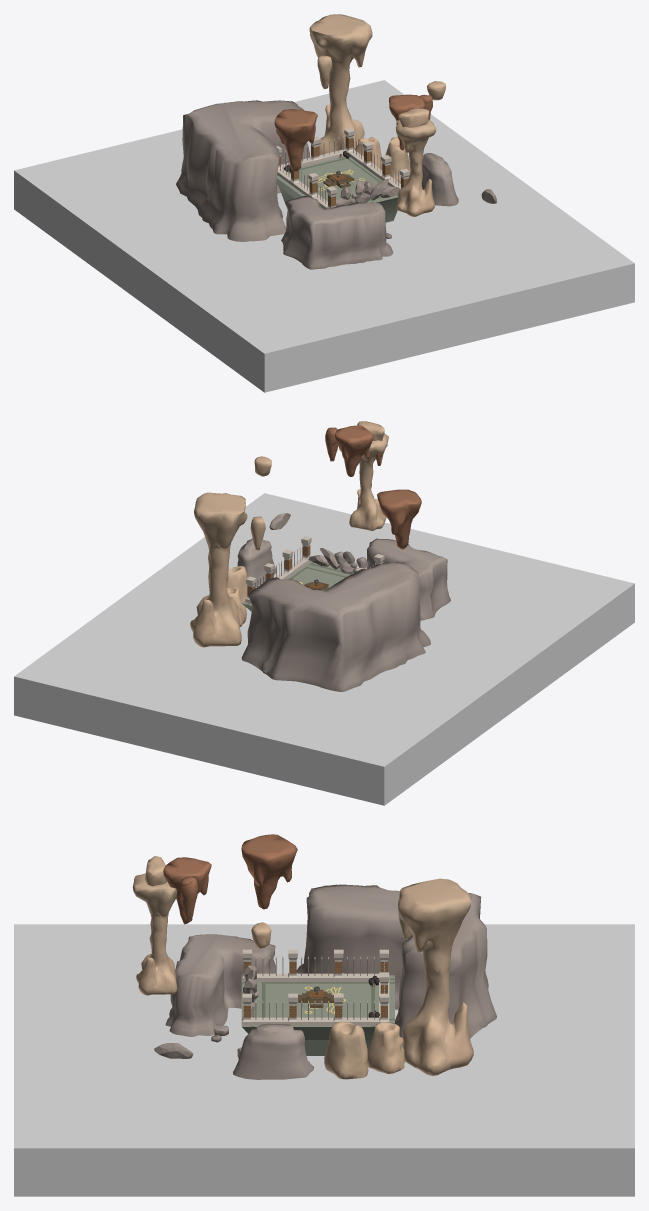
The model's file is room3.fbx.
3 views of the same model, one above another, from view 1: azimuth 30°, elevation 25°; view 2: azimuth 150°, elevation 25°; view 3: azimuth 270°, elevation 25° (orthographic). The views are drawn at different scales.
Parts seen in each view (by area): view 1: Box816, Plane.005, Plane.004, pilar1_1, Box779, pilar1, pilar2_1, Plane.003, pilar3, pilar2, Pillar020; view 2: Box816, Plane.005, pilar1_1, Plane.004, pilar1, pilar2_1, pilar2, Plane.003, Box779, Pillar023; view 3: Box816, Plane.005, pilar1_1, Plane.004, Box779, Plane.003, pilar1, pilar2_1, pilar3, pilar6, pilar2, Pillar023 (+6 smaller).
Boxes of the visible parts, x1,y1,x2,y2 form: Box816: [14, 80, 634, 392]; Plane.005: [176, 100, 309, 241]; Plane.004: [281, 196, 393, 269]; pilar1_1: [309, 14, 372, 154]; Box779: [276, 156, 398, 222]; pilar1: [396, 119, 436, 216]; pilar2_1: [274, 109, 317, 171]; Plane.003: [422, 153, 458, 206]; pilar3: [385, 137, 410, 183]; pilar2: [389, 94, 425, 120]; Pillar020: [307, 173, 337, 208]; Box816: [14, 493, 634, 805]; Plane.005: [241, 561, 430, 691]; pilar1_1: [190, 492, 247, 647]; Plane.004: [367, 538, 450, 620]; pilar1: [349, 433, 388, 530]; pilar2_1: [377, 489, 421, 549]; pilar2: [335, 425, 373, 476]; Plane.003: [237, 538, 276, 586]; Box779: [242, 561, 353, 611]; Pillar023: [282, 536, 311, 576]; Box816: [14, 924, 634, 1196]; Plane.005: [296, 884, 496, 1038]; pilar1_1: [398, 878, 473, 1075]; Plane.004: [165, 934, 275, 1036]; Box779: [241, 975, 394, 1055]; Plane.003: [233, 1023, 313, 1079]; pilar1: [132, 873, 177, 995]; pilar2_1: [241, 834, 297, 909]; pilar3: [324, 1021, 368, 1079]; pilar6: [367, 1022, 404, 1073]; pilar2: [163, 857, 211, 924]; Pillar023: [242, 993, 298, 1025].
Size of the model in its own units: 3162 by 1548 by 3704.
Materials: 78 (78 with a texture image).
